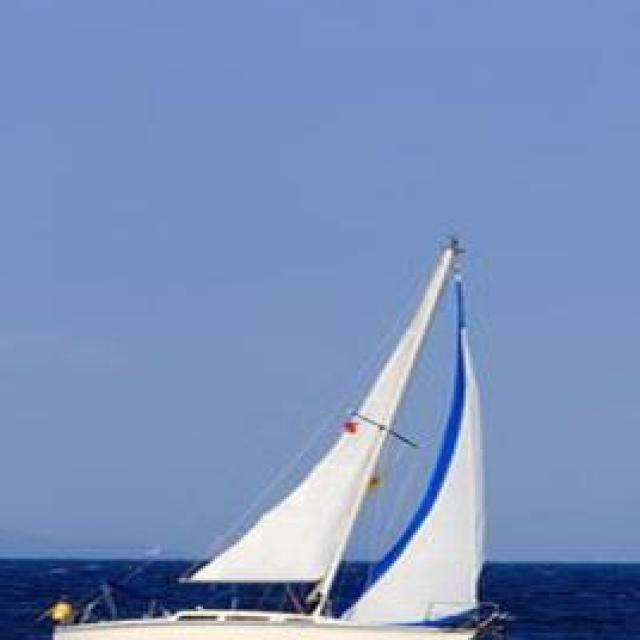sailboat: (60, 191, 513, 640)
